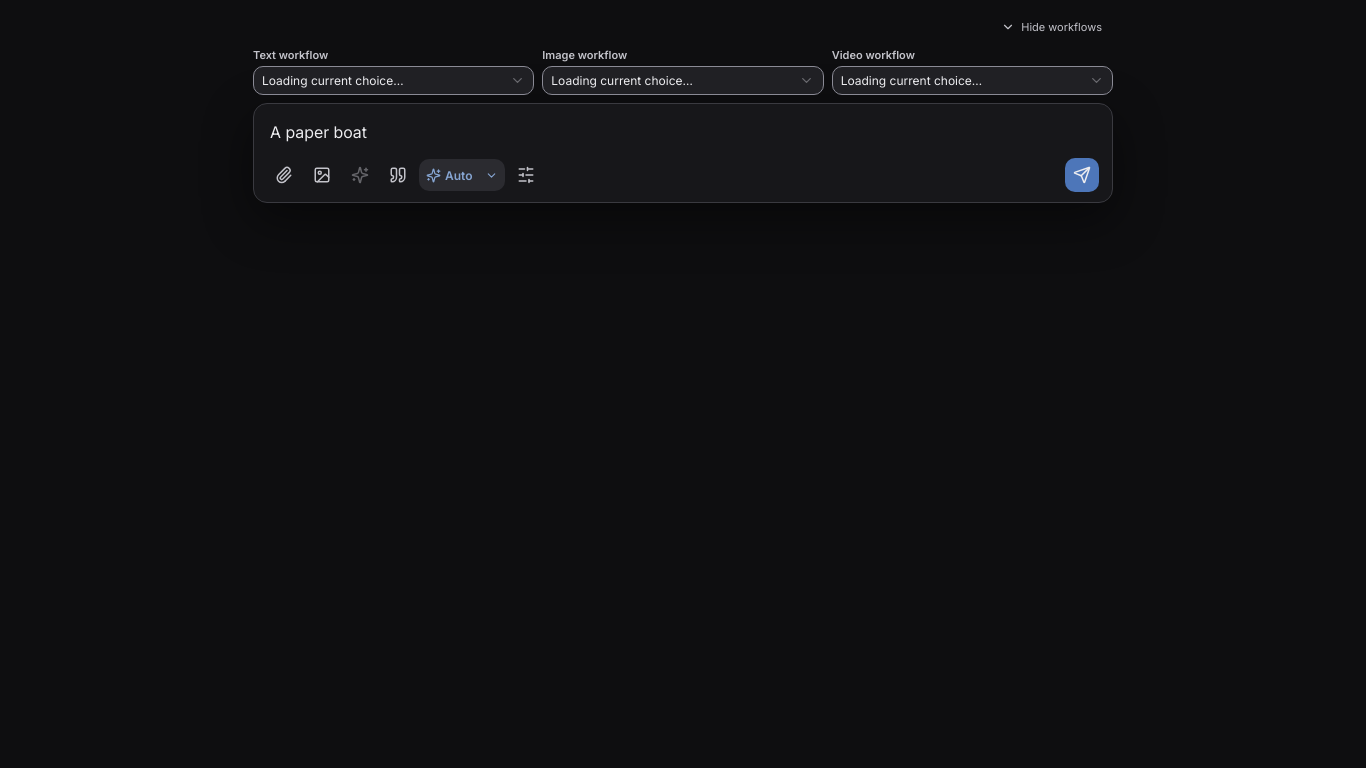
Test: resolves image profile chosen even while another settings role is displayed
Click the button named "Turn settings".
click(526, 175)  # box [509,158,543,192]
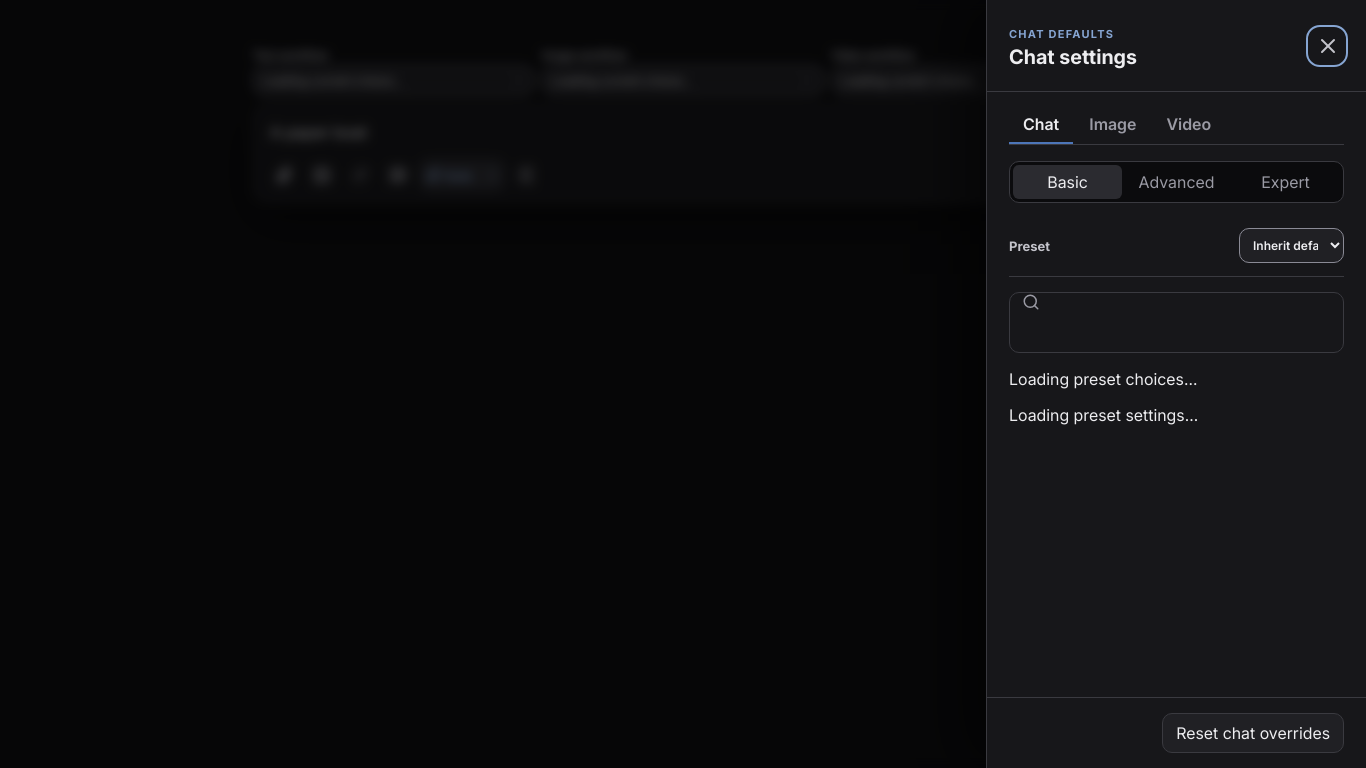
Click the button "image".
click(1113, 125)  # box [1075,106,1150,144]
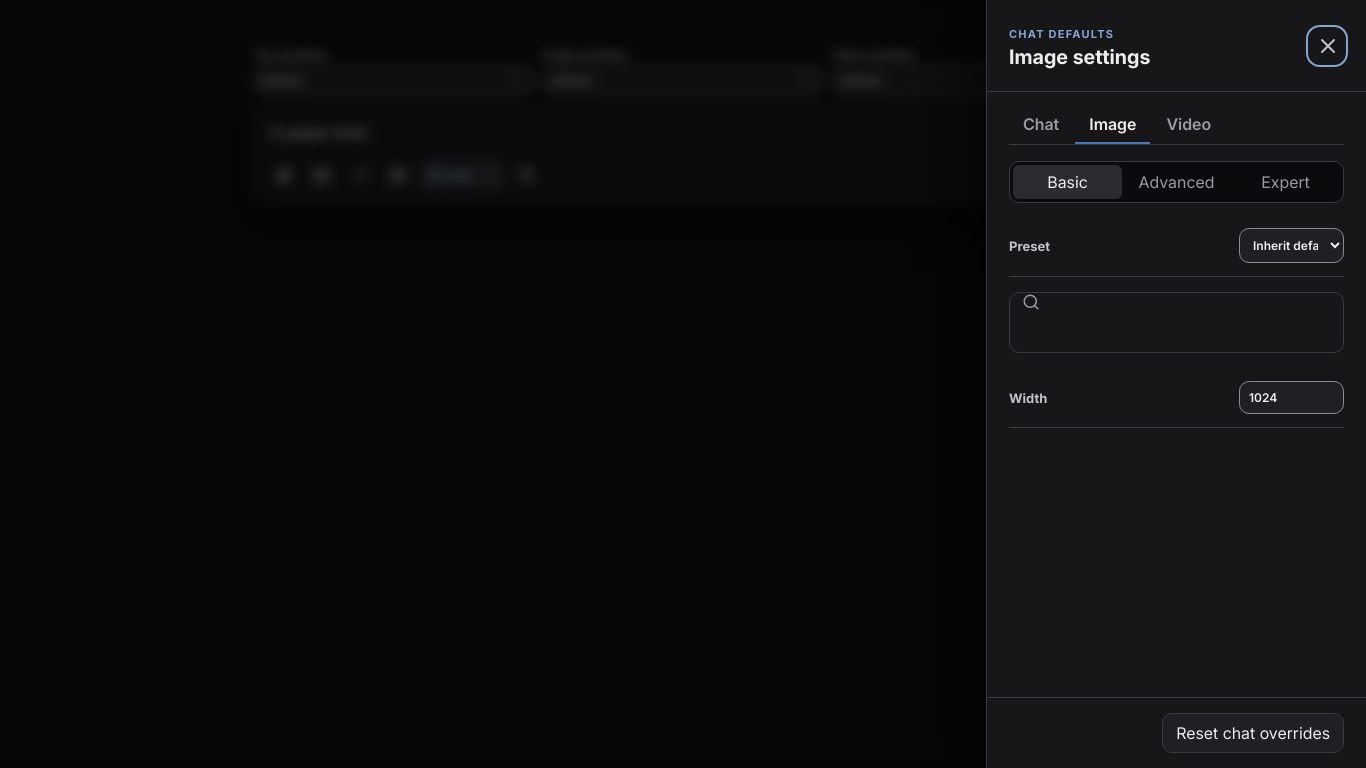
Check: the number field labelled "Width" holds "1024", box [1239,381,1344,414]
